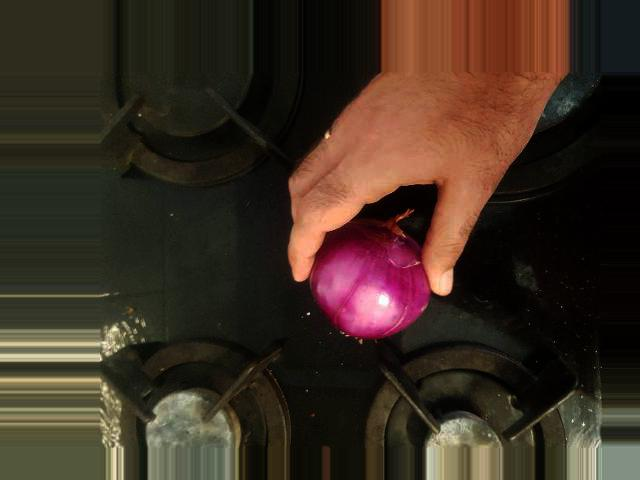onion: (209, 280, 326, 407)
